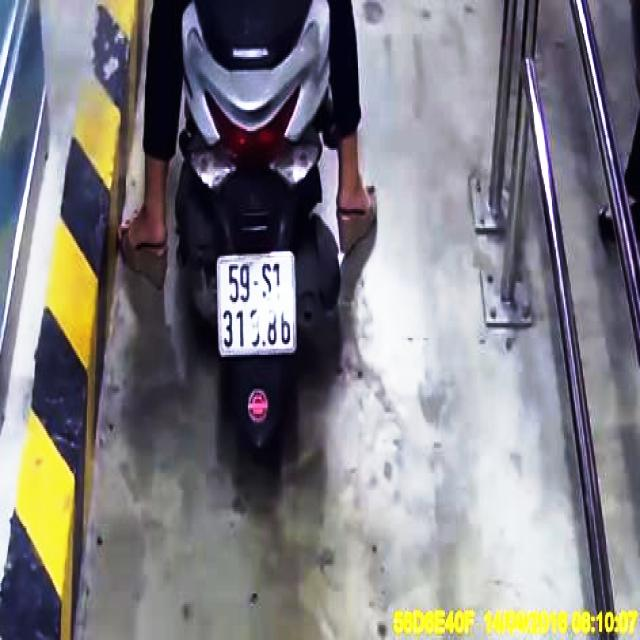license_plate: (217, 255, 296, 354)
